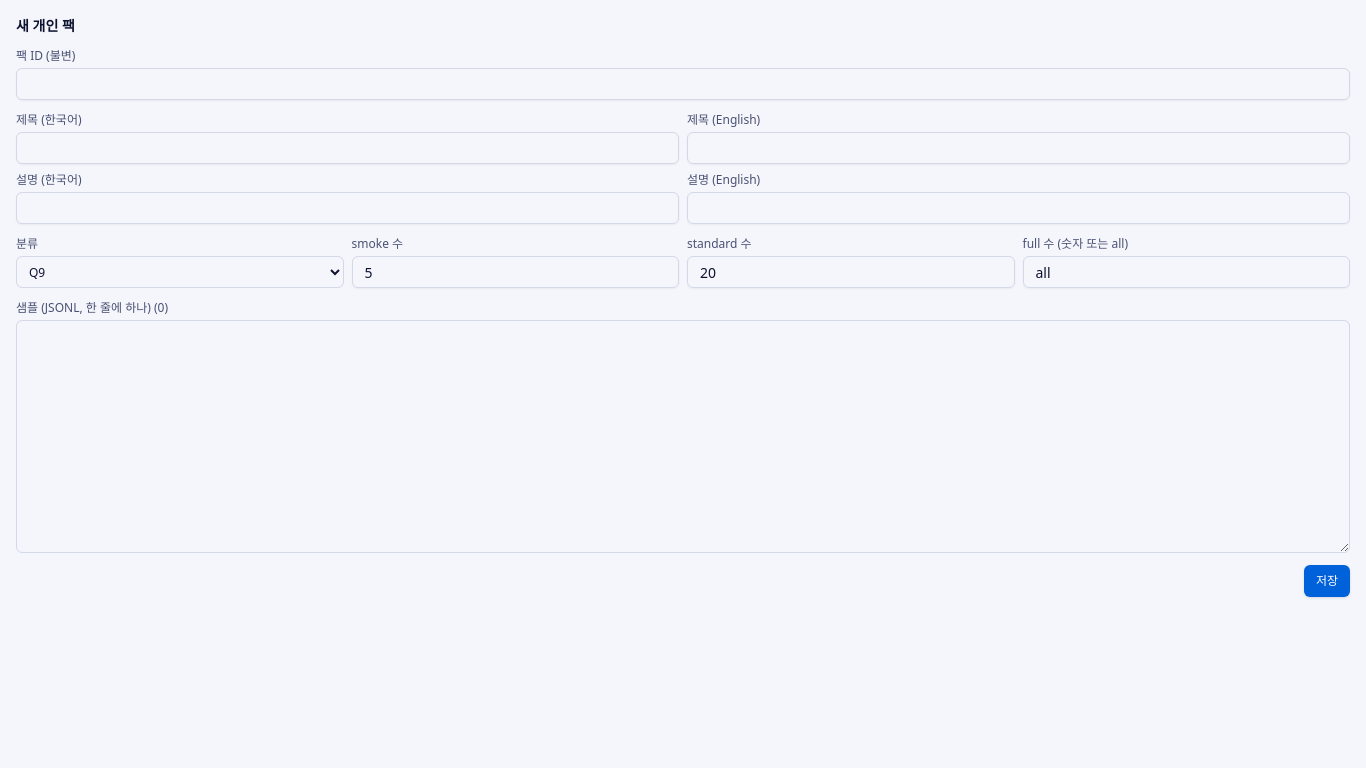
PackEditor › rejects save with an invalid pack id
Click the button "저장".
click(1327, 580)  # box [1304,564,1350,596]
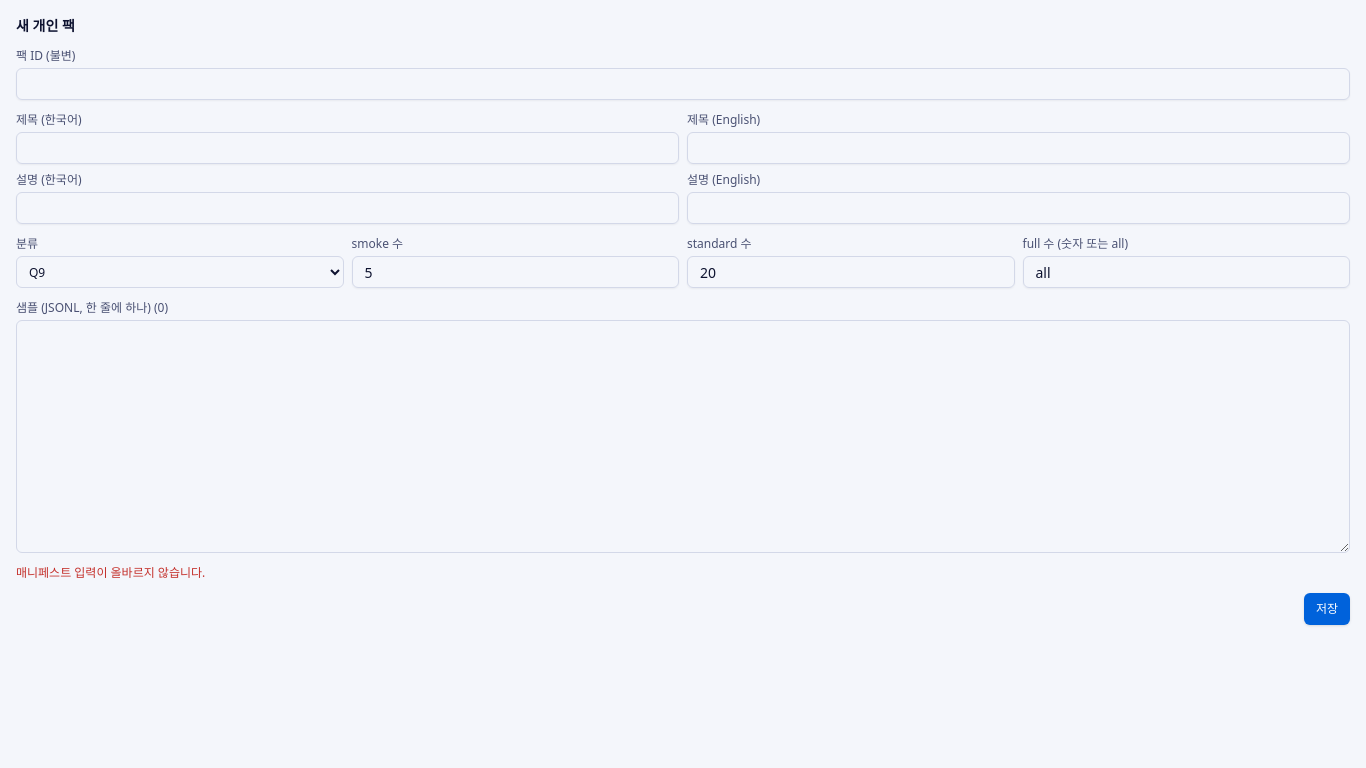
Check: the text "매니페스트 입력이 올바르지 않습니다." is shown, box [16,564,205,580]
